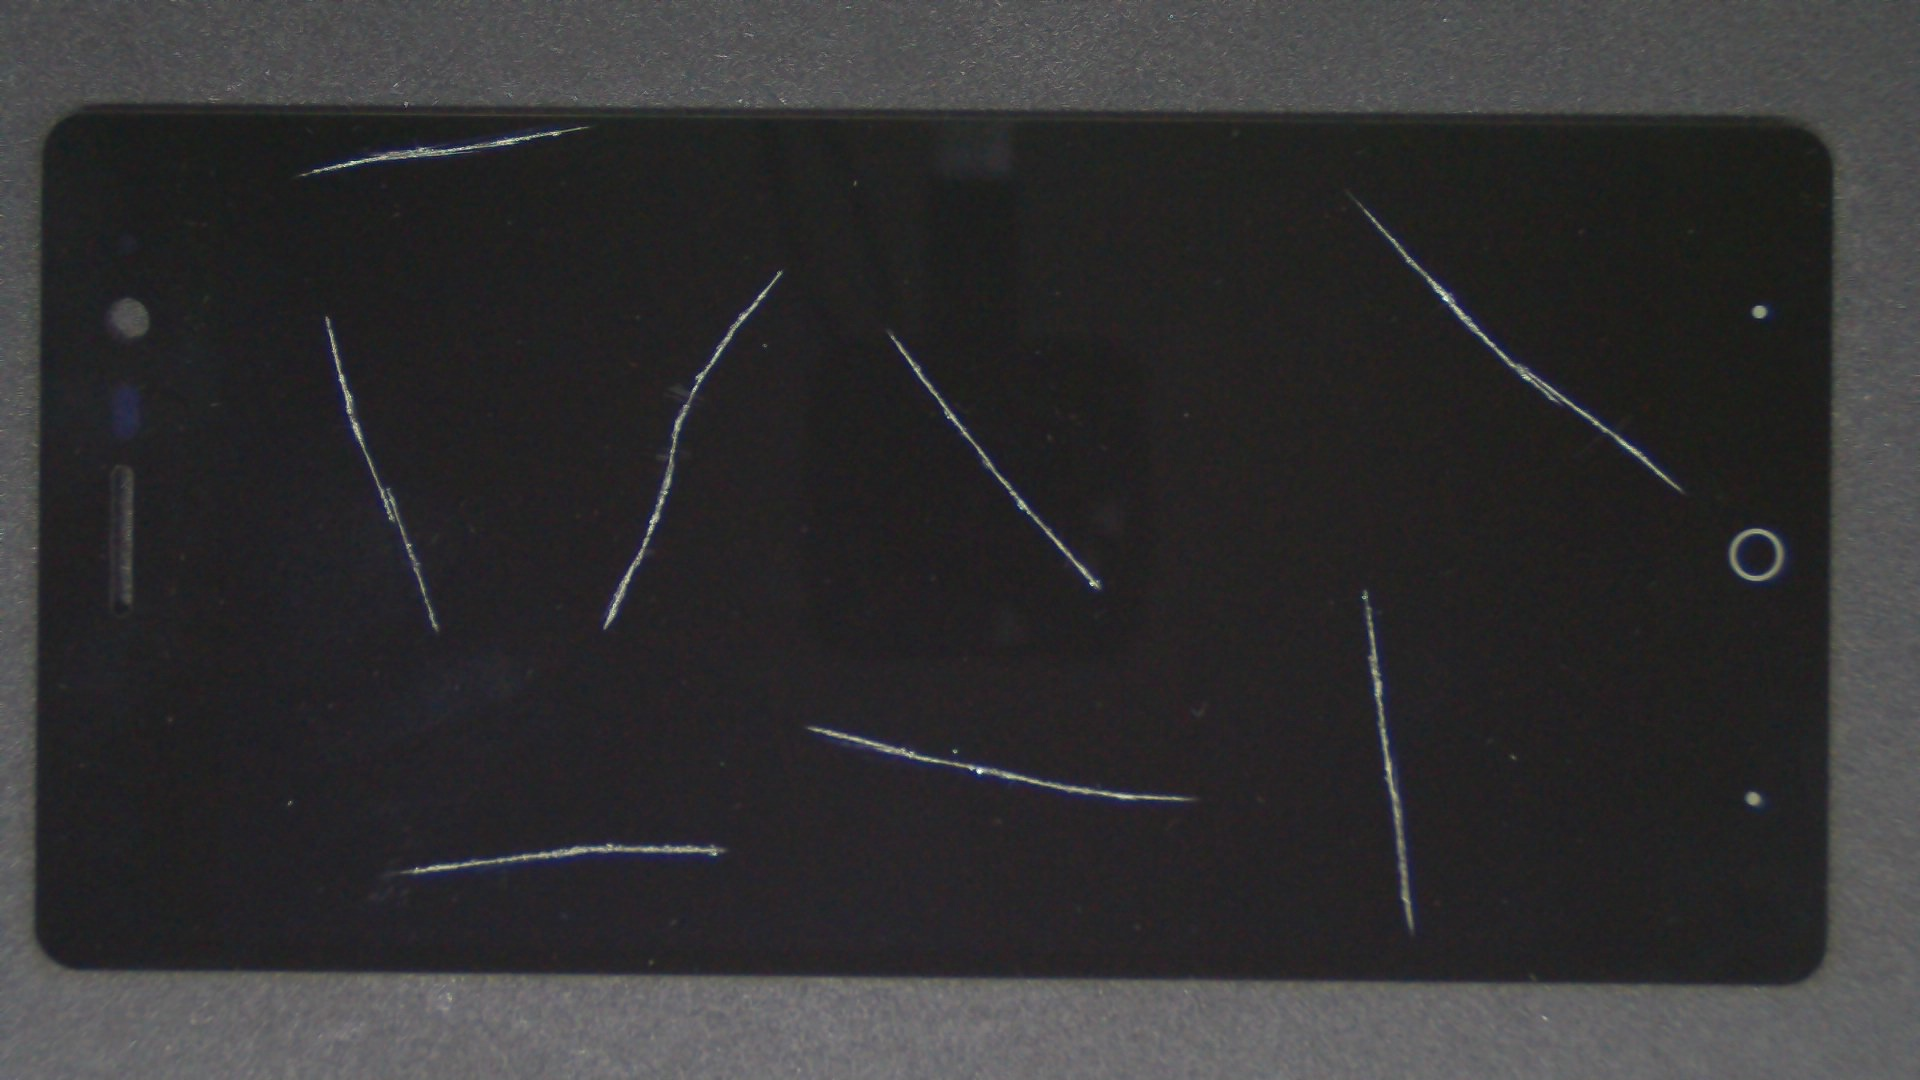oil: (682, 294, 1920, 882), (402, 361, 1207, 1080), (306, 421, 914, 1080), (447, 162, 1333, 492), (679, 98, 1920, 297), (392, 135, 1172, 404), (162, 157, 488, 472), (290, 62, 869, 190)
